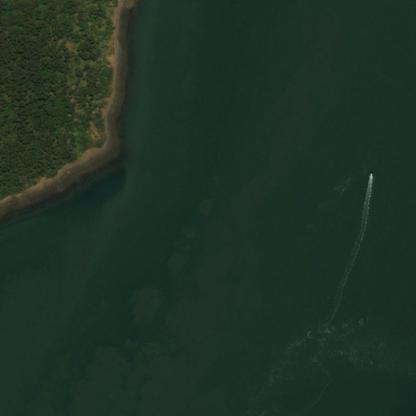ship: (370, 5, 372, 8)
